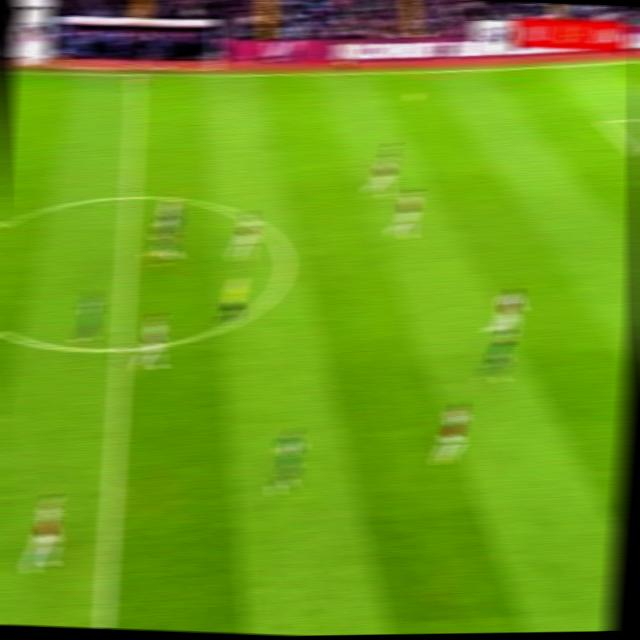bigarea_top_inner: (593, 113, 615, 131)
halfcircle_bottom: (108, 331, 136, 366)
halfcircle_top: (118, 183, 143, 211)
midline_top_intersection: (122, 58, 151, 92)
